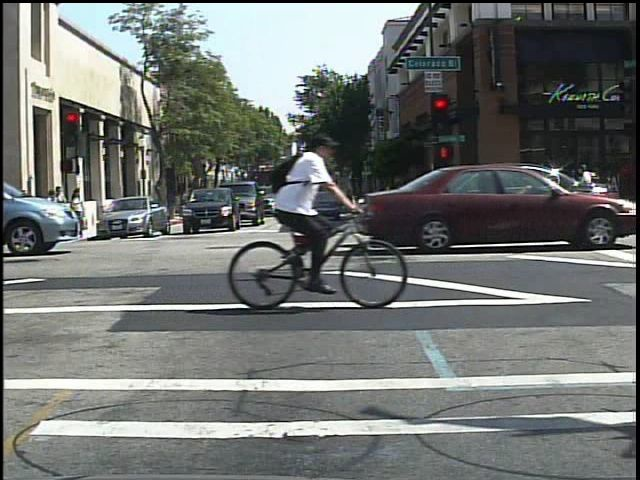person: (267, 123, 352, 302), (576, 159, 602, 224)
